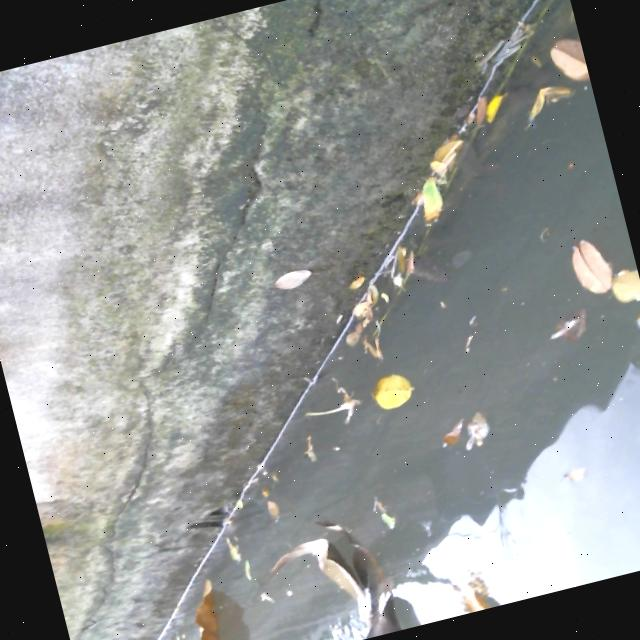Big-leaf: (256, 516, 410, 640), (175, 569, 243, 640)
Small-leaf: (537, 221, 625, 312), (335, 357, 425, 426), (376, 212, 448, 285), (529, 4, 589, 87), (509, 71, 588, 134), (444, 558, 516, 616), (414, 130, 478, 177), (591, 263, 640, 316), (424, 409, 475, 459), (338, 277, 389, 321), (211, 510, 252, 564), (538, 304, 596, 340), (461, 406, 504, 454), (408, 170, 447, 216), (331, 311, 374, 350), (257, 483, 292, 521), (474, 92, 507, 120)
